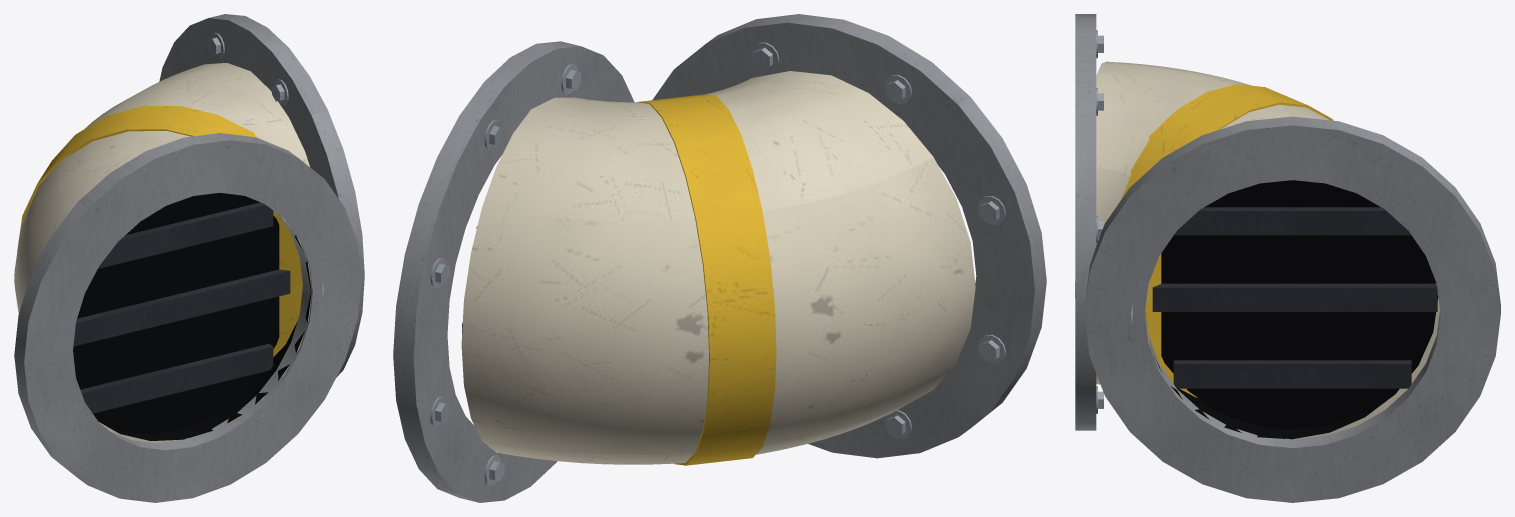
Rendered from large_pipe_corner.glb.
3 views of the same model, side by side, from view 1: azimuth 30°, elevation 25°; view 2: azimuth 150°, elevation 25°; view 3: azimuth 270°, elevation 25° (orthographic). The views are drawn at different scales.
Parts seen in each view (by area): view 1: Body.002; view 2: Body.002; view 3: Body.002.
Part boxes in pixels (<box>): Body.002: <box>14,14,364,502</box>; Body.002: <box>393,14,1046,502</box>; Body.002: <box>1075,14,1500,502</box>.
Bounding box in the file's own units: 0.4867 × 0.476 × 0.4867.
6 materials, 5 textured.
